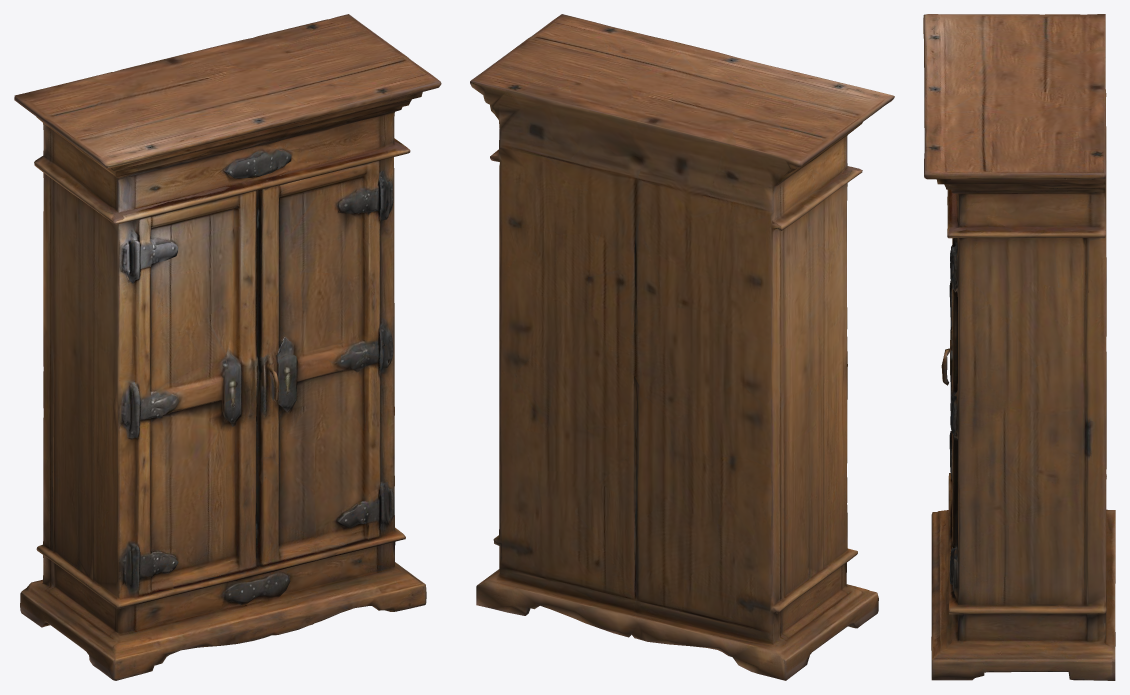
The model's file is wardrobe.glb.
The picture shows the model from 3 angles, left to right: view 1: azimuth 30°, elevation 25°; view 2: azimuth 150°, elevation 25°; view 3: azimuth 270°, elevation 25°; orthographic projection. The views are drawn at different scales.
Parts seen in each view (by area): view 1: model; view 2: model; view 3: model.
Part boxes in pixels (x1,y1,x2,y2): model: [14, 14, 441, 680]; model: [470, 14, 894, 680]; model: [923, 14, 1115, 680].
Bounding box in the file's own units: 1.34 × 2 × 0.6801.
Materials: 1 (1 with a texture image).
